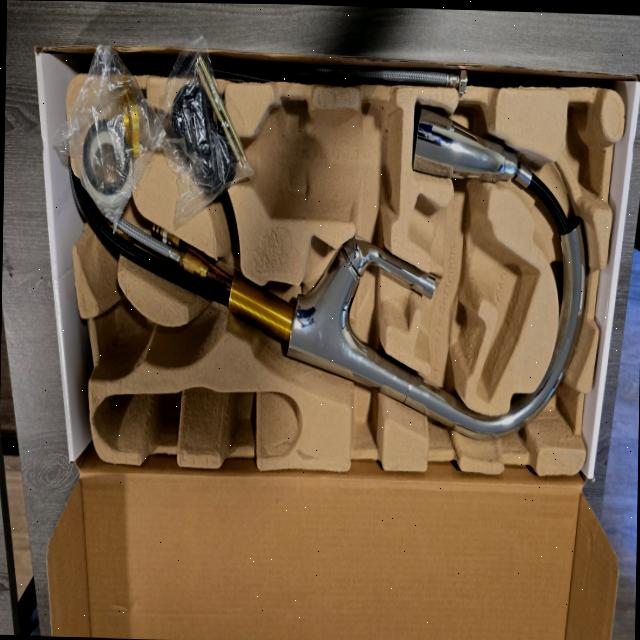1: (67, 104, 587, 442)
2m: (407, 193, 539, 402)
3m: (229, 103, 400, 218)
4m: (91, 383, 301, 454)
5m: (98, 300, 148, 368)
6: (49, 39, 164, 235)
7: (139, 33, 252, 231)
